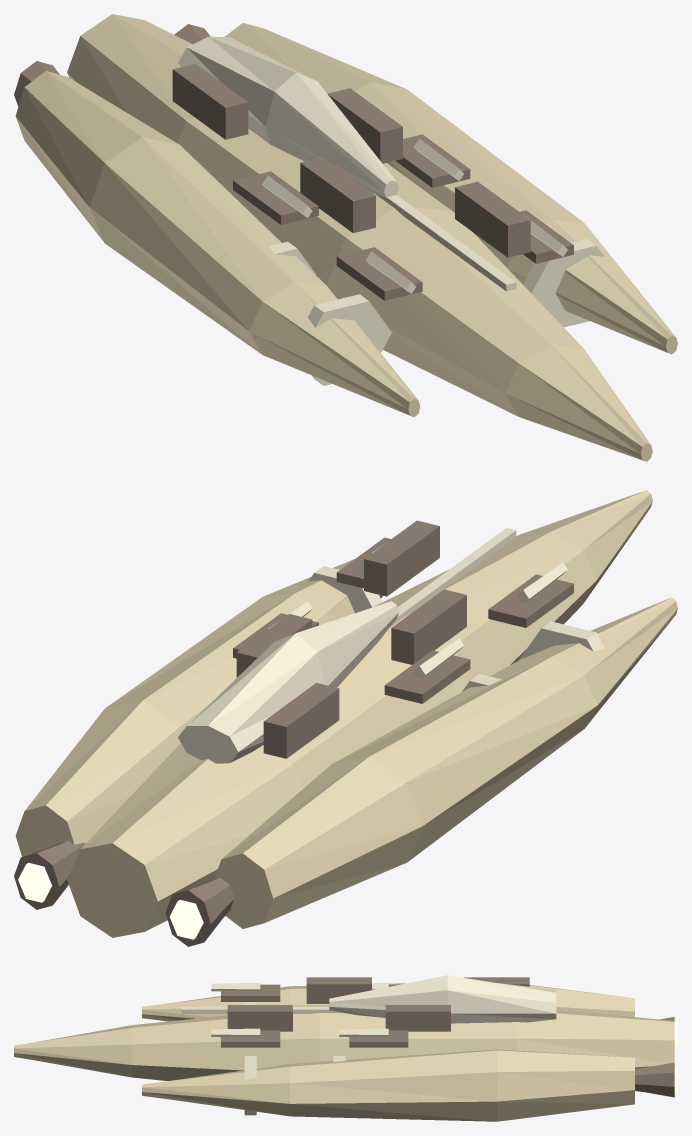
3 renders of one model, top to bottom at view 1: azimuth 30°, elevation 25°; view 2: azimuth 150°, elevation 25°; view 3: azimuth 270°, elevation 25°, orthographic. The views are drawn at different scales.
Size of the model in its own units: 9.14 by 4.75 by 24.4.
